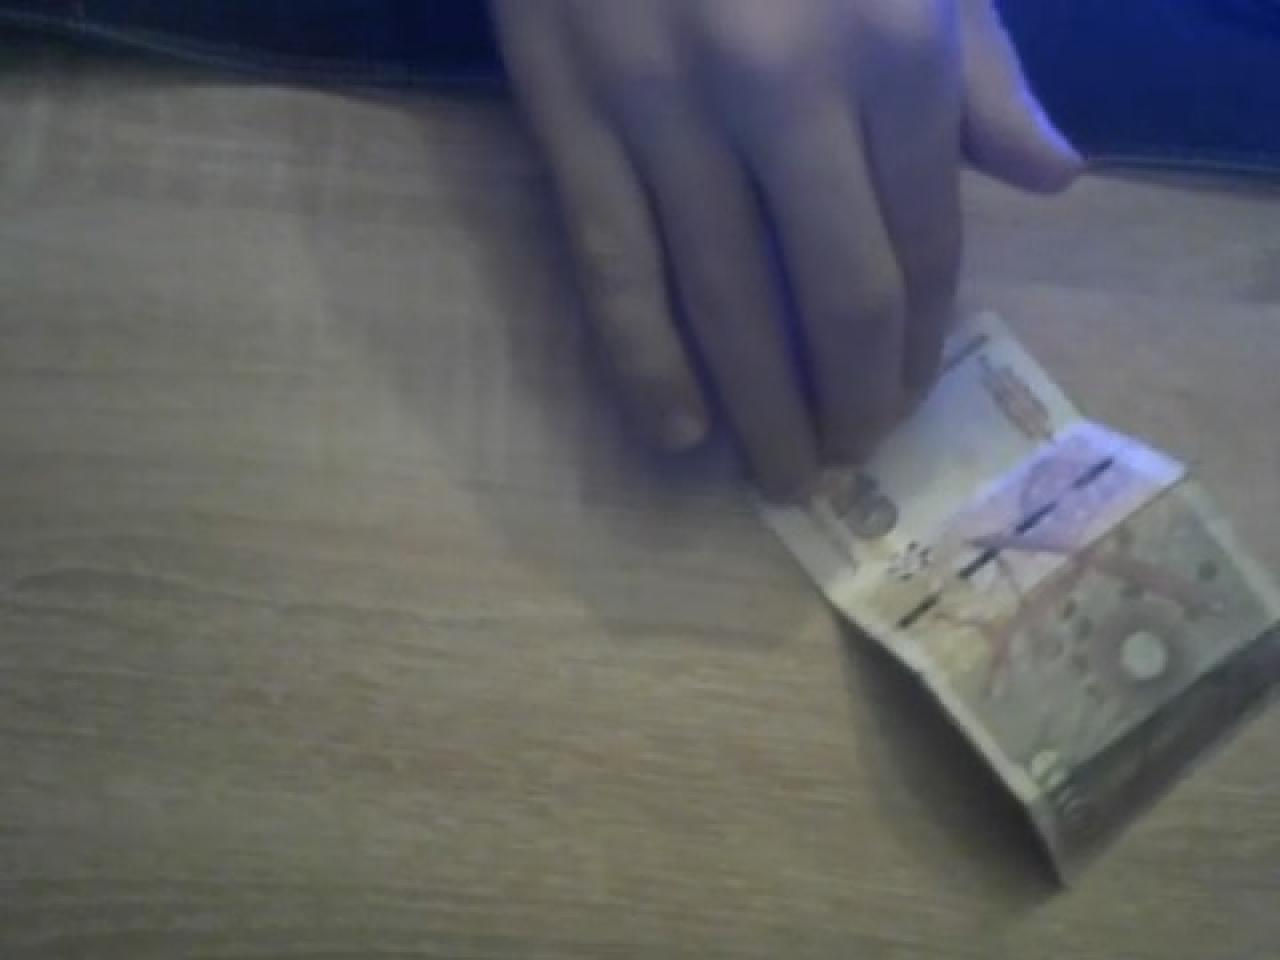10leva: (760, 312, 1280, 893)
